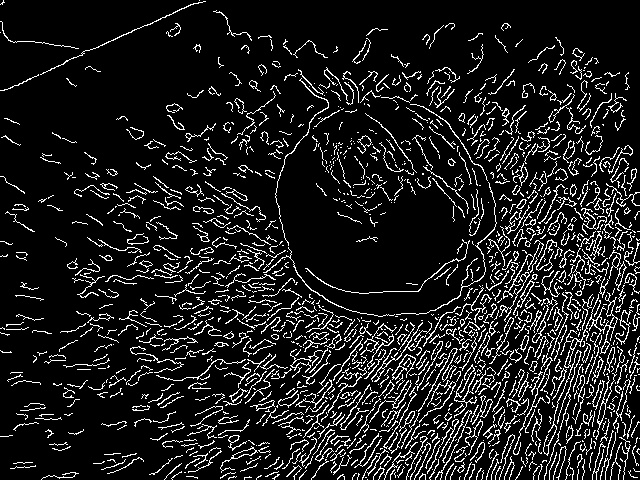onion: (261, 49, 501, 333)
